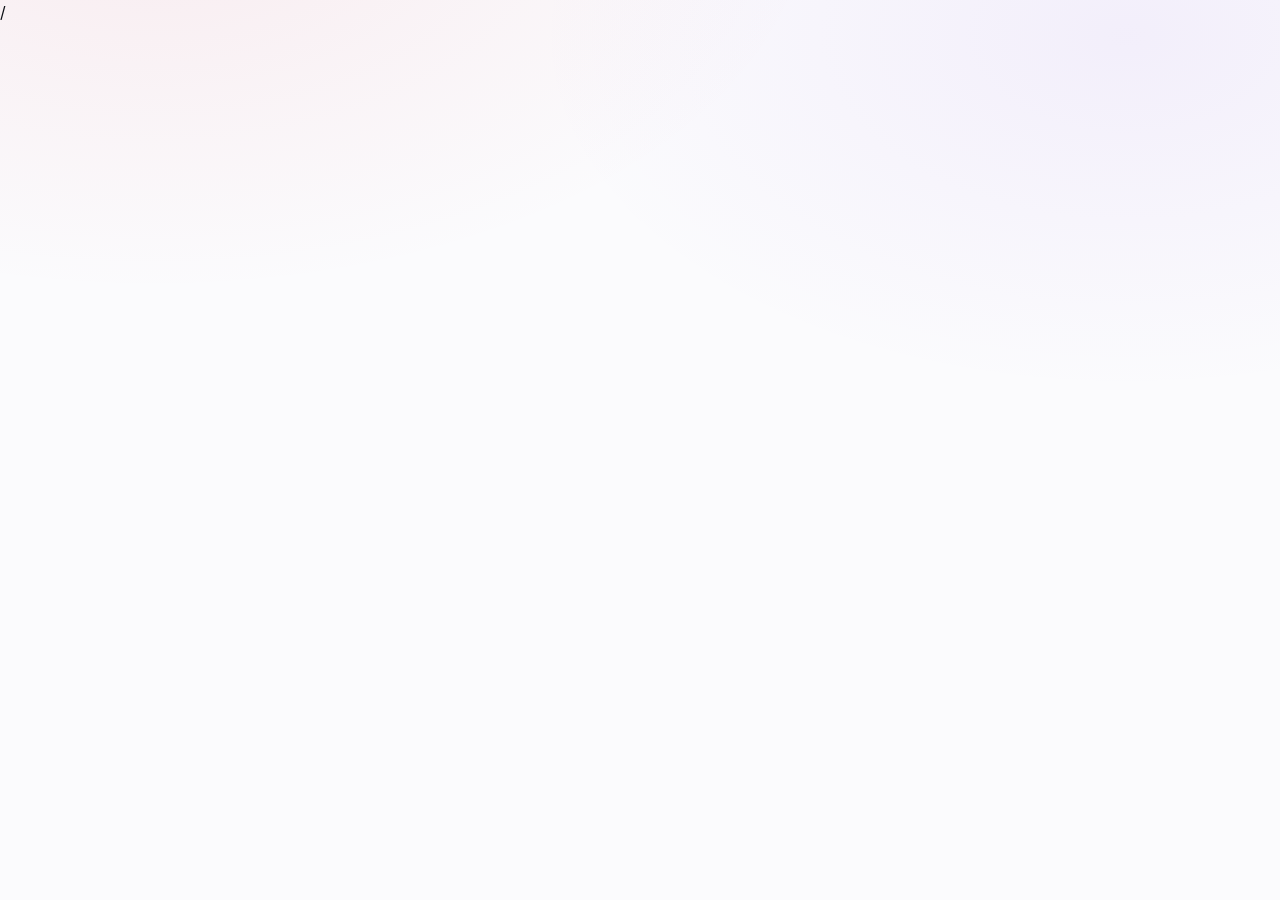
Test: the palette can open the shortcuts sheet
Press k
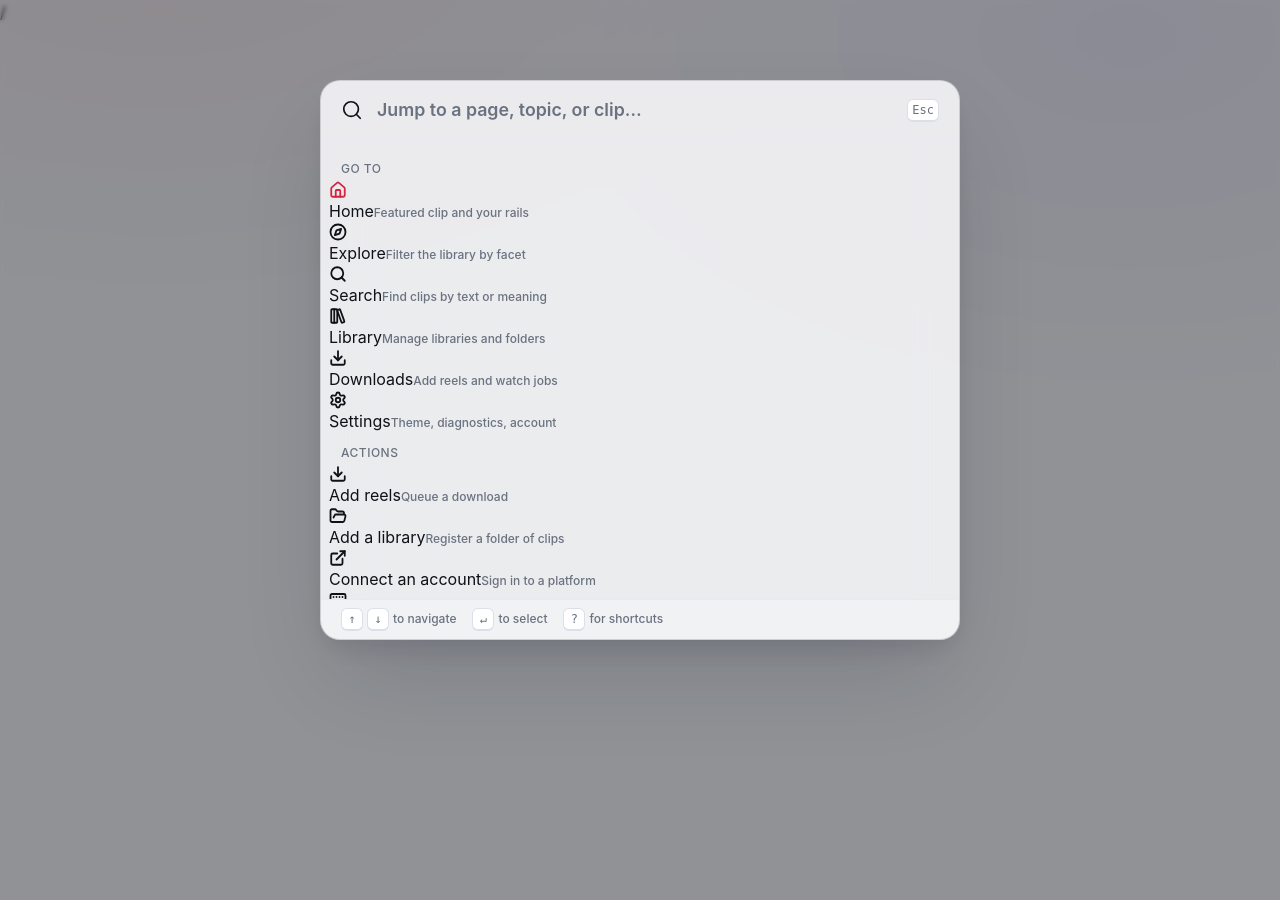
In the dropdown: coordinates (635, 110) [375,97,895,124], type "keyboard"
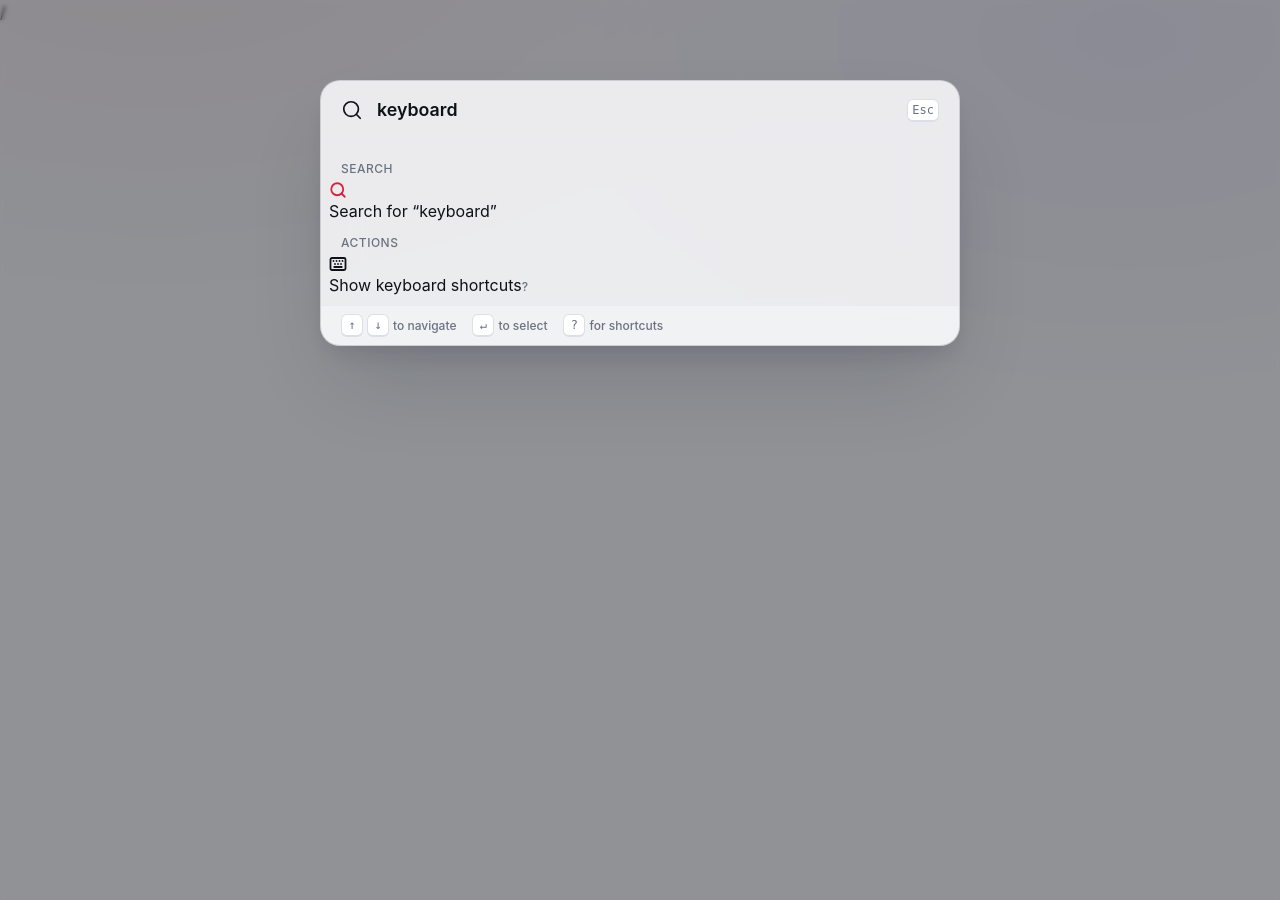
Click the option "Show keyboard shortcuts?": coordinates (428, 275) [329,255,528,295]
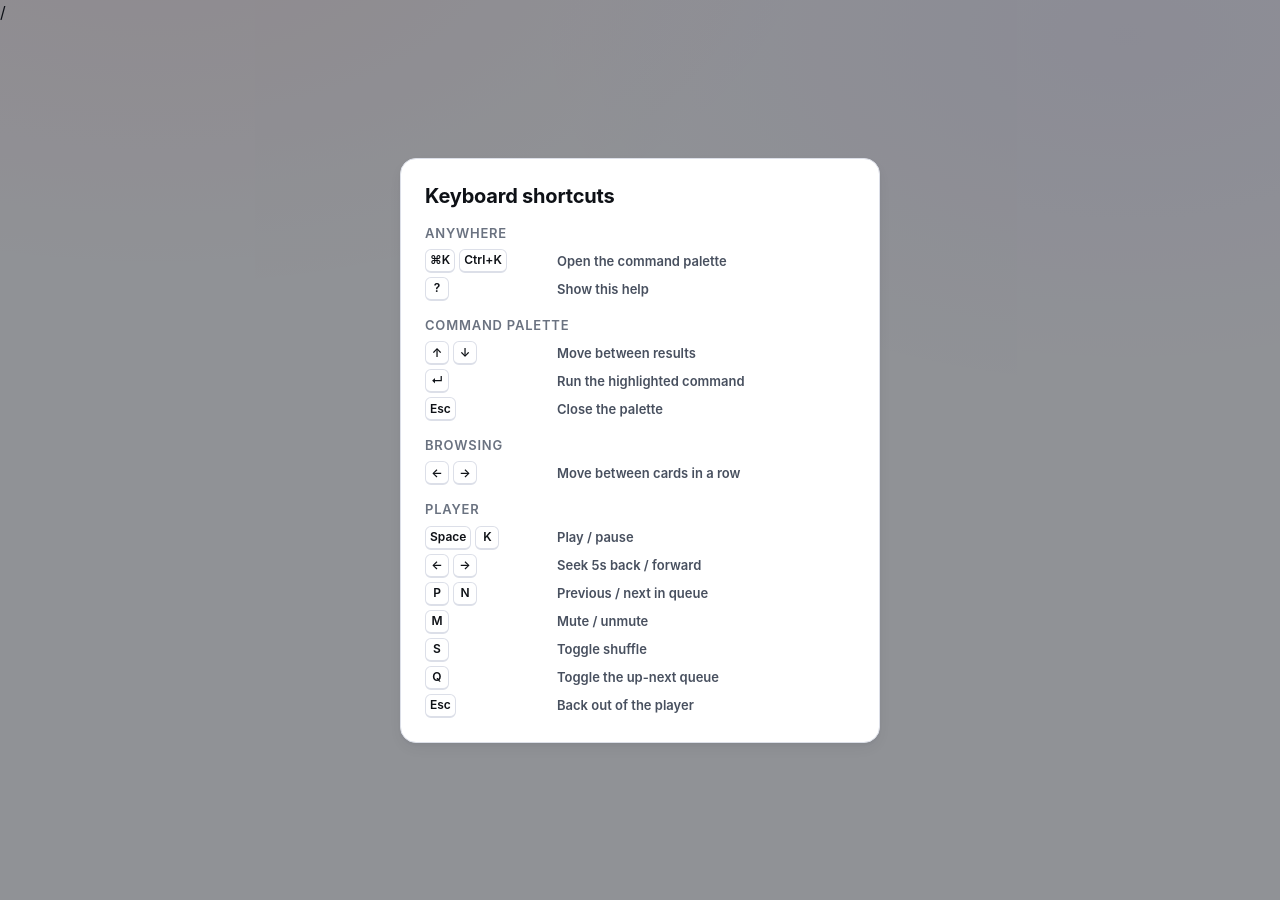
Result: the dialog "Keyboard shortcuts" is shown at [400,158,880,742]
